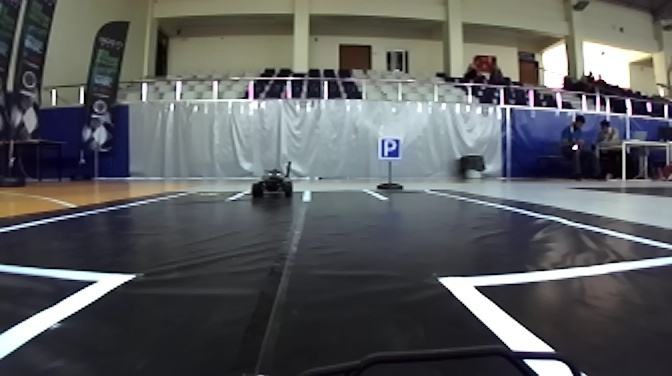park: (377, 137, 405, 161)
